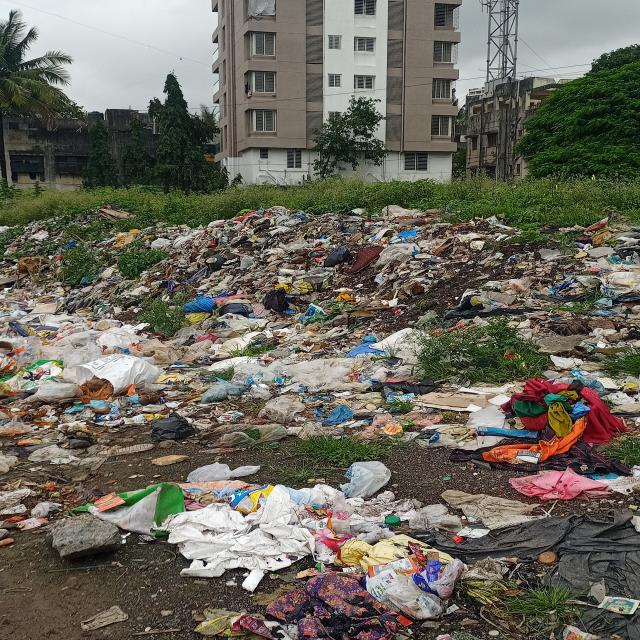garbage: (4, 214, 640, 455), (102, 460, 640, 640)
